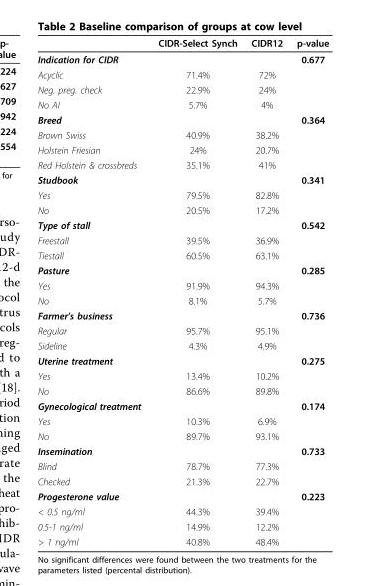table: (36, 36, 328, 546)
table column: (36, 36, 148, 546), (148, 36, 243, 546), (243, 36, 289, 546), (289, 36, 328, 546)
table column header: (36, 36, 328, 50)
table row: (36, 50, 328, 66), (36, 111, 328, 127), (36, 352, 328, 368), (36, 66, 328, 81), (36, 81, 328, 96), (36, 96, 328, 111), (36, 127, 328, 142), (36, 142, 328, 157), (36, 157, 328, 172), (36, 172, 328, 187), (36, 187, 328, 202), (36, 202, 328, 217), (36, 217, 328, 232), (36, 232, 328, 247), (36, 247, 328, 262), (36, 262, 328, 277), (36, 277, 328, 292), (36, 292, 328, 307), (36, 307, 328, 322), (36, 322, 328, 337), (36, 337, 328, 352), (36, 368, 328, 383), (36, 383, 328, 398), (36, 398, 328, 413), (36, 413, 328, 428), (36, 428, 328, 443), (36, 443, 328, 458), (36, 458, 328, 473), (36, 473, 328, 488), (36, 488, 328, 503), (36, 503, 328, 518), (36, 518, 328, 533), (36, 36, 328, 50), (36, 533, 328, 546)
